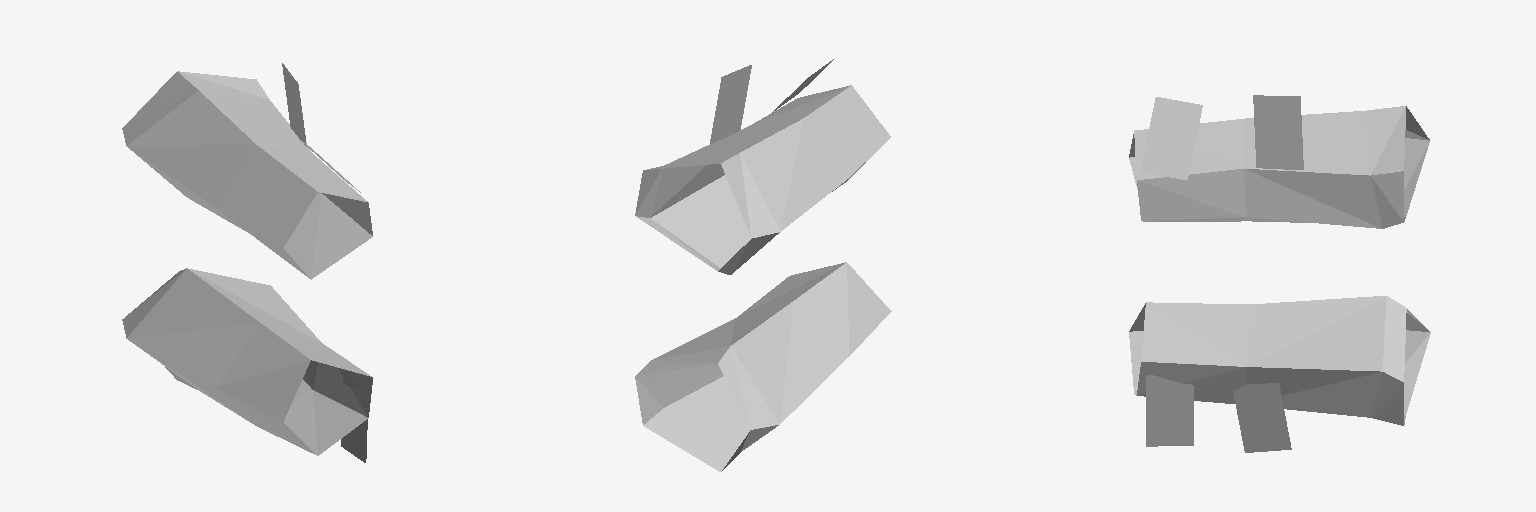
The picture shows the model from 3 angles: view 1: azimuth 30°, elevation 25°; view 2: azimuth 150°, elevation 25°; view 3: azimuth 270°, elevation 25°; orthographic projection.
Visible parts, largest first — view 1: rg_downbody_005_2; view 2: rg_downbody_005_2; view 3: rg_downbody_005_2.
Boxes of the visible parts, box(x1,y1,x2,y2) form: rg_downbody_005_2: box(122, 63, 372, 462); rg_downbody_005_2: box(635, 59, 891, 471); rg_downbody_005_2: box(1129, 95, 1430, 452).
Size of the model in its own units: 19.93 by 47.68 by 36.73.